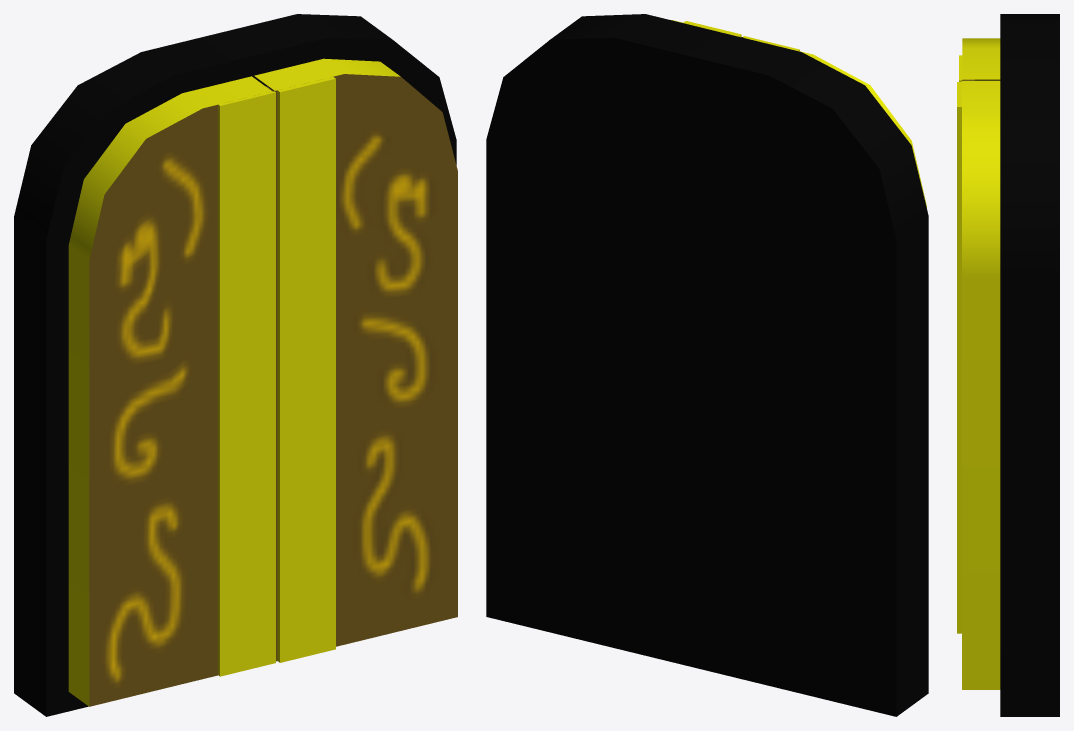
Rendered from doorplacment.fbx.
3 views of the same model, side by side, from view 1: azimuth 30°, elevation 25°; view 2: azimuth 150°, elevation 25°; view 3: azimuth 270°, elevation 25° (orthographic). The views are drawn at different scales.
Visible parts, largest first — view 1: pasted__pCube1, pasted__pasted__pCube1, pCube1, pasted__pCube2, pCube2; view 2: pCube1, pasted__pCube1; view 3: pCube1, pasted__pasted__pCube1, pasted__pCube2, pasted__pCube1.
Part boxes in pixels (x1,y1,x2,y2): pasted__pCube1: (68, 76, 272, 706); pasted__pasted__pCube1: (253, 58, 457, 661); pCube1: (14, 14, 456, 716); pasted__pCube2: (277, 77, 335, 662); pCube2: (218, 91, 275, 676); pCube1: (486, 14, 928, 716); pasted__pCube1: (743, 37, 926, 207); pCube1: (1000, 14, 1059, 716); pasted__pasted__pCube1: (962, 80, 1000, 689); pasted__pCube2: (957, 82, 961, 633); pasted__pCube1: (962, 38, 1000, 80).
Size of the model in its own units: 7.36 by 10.46 by 1.73.
